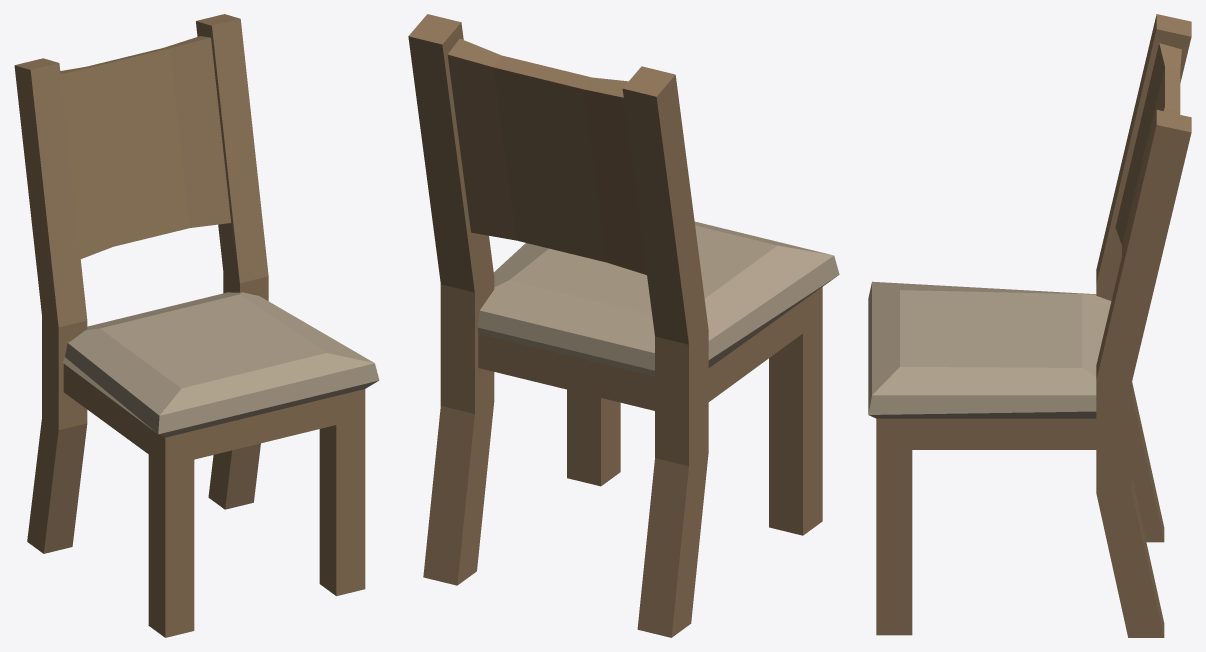
The model's file is SM_Prop_DiningChair_01.fbx.
3 renders of one model, left to right at view 1: azimuth 30°, elevation 25°; view 2: azimuth 150°, elevation 25°; view 3: azimuth 270°, elevation 25°, orthographic. The views are drawn at different scales.
Visible parts, largest first — view 1: SM_Prop_DiningChair_01; view 2: SM_Prop_DiningChair_01; view 3: SM_Prop_DiningChair_01.
Part boxes in pixels (box(x1,y1,x2,y2)): SM_Prop_DiningChair_01: box(14, 14, 379, 637); SM_Prop_DiningChair_01: box(408, 14, 839, 637); SM_Prop_DiningChair_01: box(868, 14, 1191, 637).
Bounding box in the file's own units: 55.36 × 113 × 64.75.
